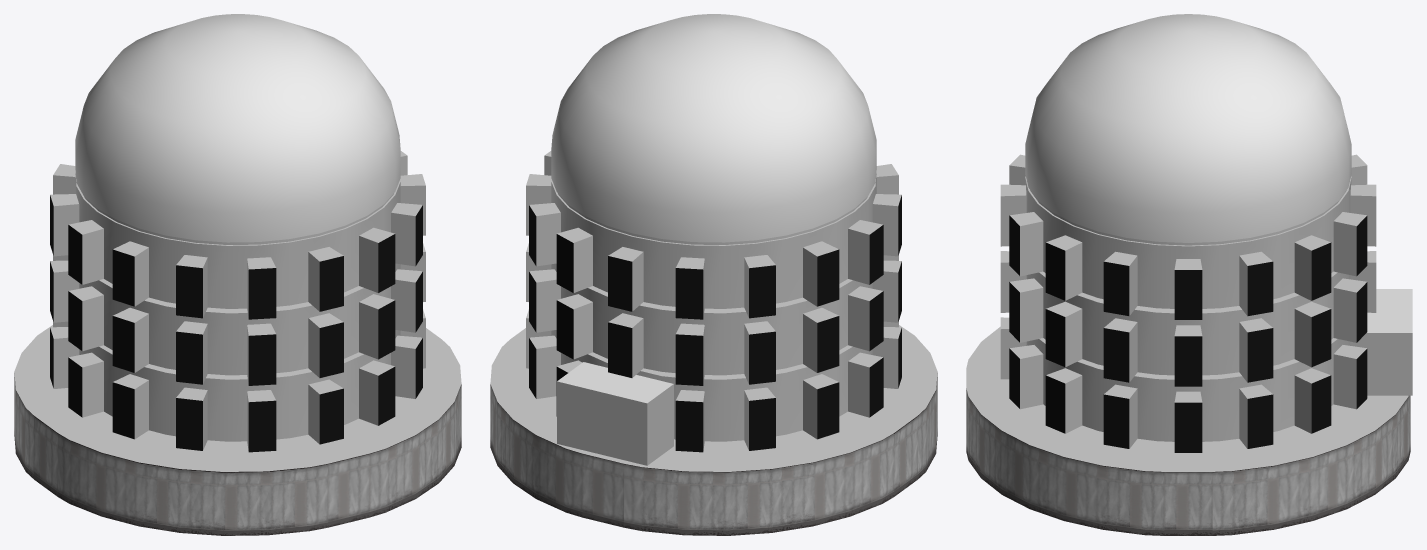
File: m_ext_s_startNoFence.fbx
3 renders of one model, left to right at view 1: azimuth 30°, elevation 25°; view 2: azimuth 150°, elevation 25°; view 3: azimuth 270°, elevation 25°, orthographic.
Parts seen in each view (by area): view 1: m_ceiling, m_walls, m_wallPieceN, m_wallPieceE; view 2: m_ceiling, m_walls, m_wallPieceS, m_wallPieceE; view 3: m_ceiling, m_walls, m_wallPieceW.
Part boxes in pixels (x1,y1,x2,y2): m_ceiling: (50, 14, 425, 452); m_walls: (14, 325, 461, 535); m_wallPieceN: (328, 459, 369, 527); m_wallPieceE: (34, 421, 57, 496); m_ceiling: (526, 14, 901, 465); m_walls: (490, 325, 937, 535); m_wallPieceS: (582, 459, 623, 527); m_wallPieceE: (894, 421, 917, 496); m_ceiling: (1000, 14, 1412, 452); m_walls: (966, 326, 1410, 535); m_wallPieceW: (1164, 477, 1212, 535).
Bounding box in the file's own units: 1484 × 1513 × 1491.
